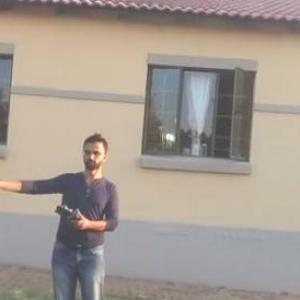follow: (0, 126, 122, 299)
